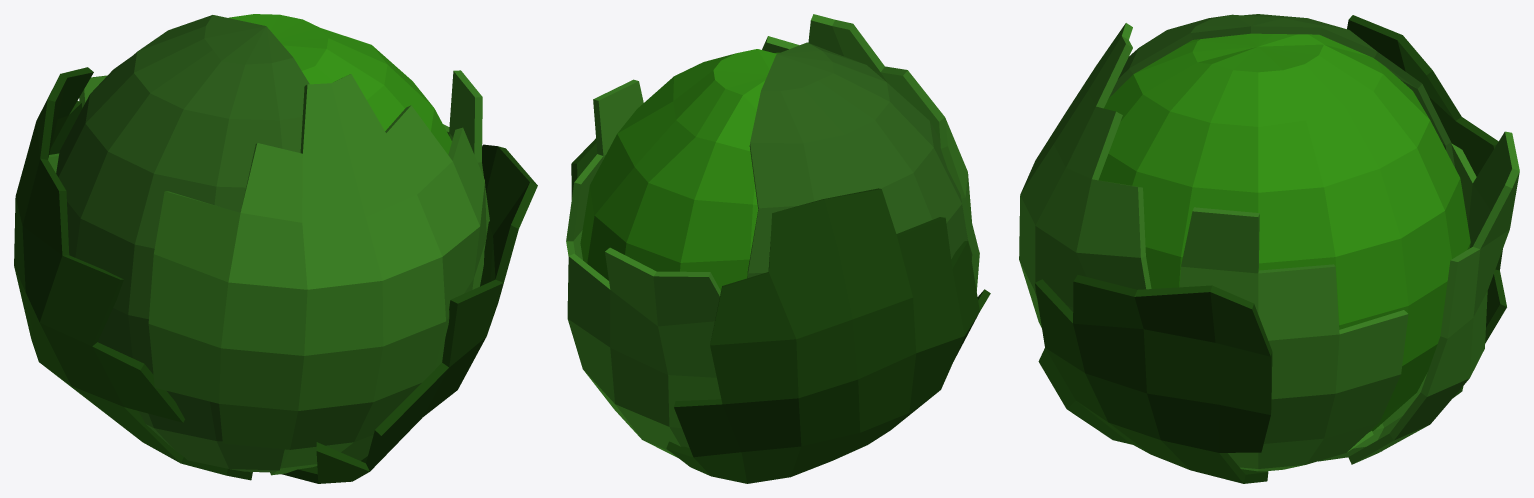
The model's file is Cabbage.fbx.
The picture shows the model from 3 angles, left to right: view 1: azimuth 30°, elevation 25°; view 2: azimuth 150°, elevation 25°; view 3: azimuth 270°, elevation 25°; orthographic projection. The views are drawn at different scales.
Parts seen in each view (by area): view 1: Sphere; view 2: Sphere; view 3: Sphere.
Boxes of the visible parts, x1=… form: Sphere: x1=14, y1=14, x2=537, y2=483; Sphere: x1=566, y1=14, x2=990, y2=483; Sphere: x1=1019, y1=14, x2=1519, y2=483.
Bounding box in the file's own units: 239 × 223 × 236.
